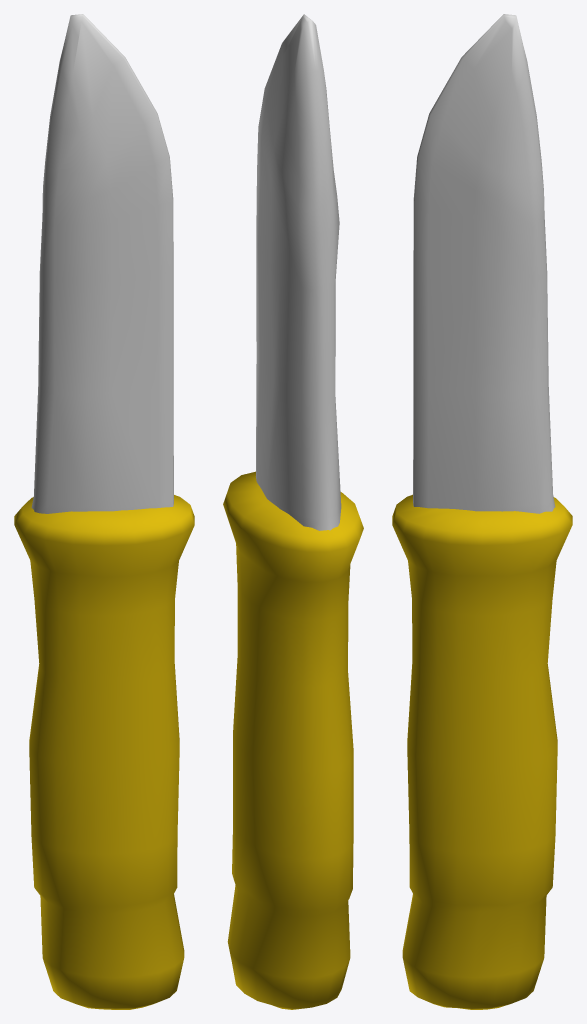
The model's file is MetalKnife.fbx.
The picture shows the model from 3 angles, left to right: view 1: azimuth 90°, elevation 25°; view 2: azimuth 210°, elevation 25°; view 3: azimuth 270°, elevation 25°; orthographic projection.
Visible parts, largest first — view 1: MetalKnife; view 2: MetalKnife; view 3: MetalKnife.
Boxes of the visible parts, left/top/right/bottom form: MetalKnife: left=14, top=14, right=194, bottom=1009; MetalKnife: left=223, top=14, right=363, bottom=1009; MetalKnife: left=392, top=14, right=572, bottom=1009.
Size of the model in its own units: 0.0455 by 0.4097 by 0.068.
